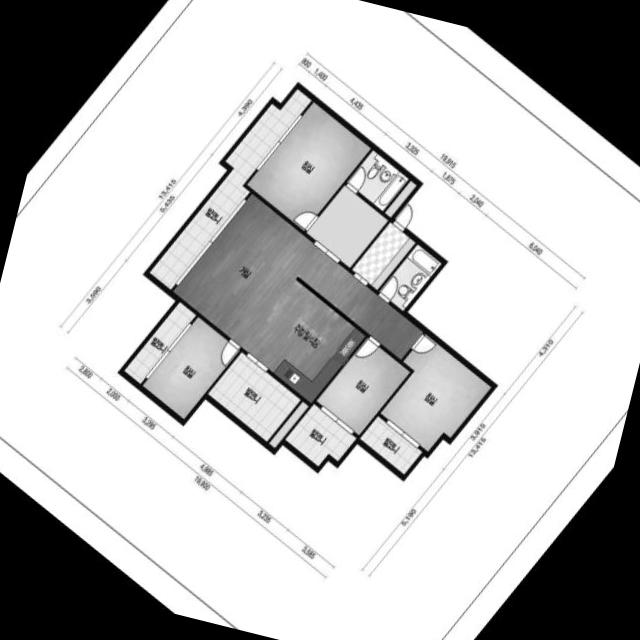background: (0, 0, 640, 640)
space_balconi: (149, 89, 311, 290), (207, 352, 300, 442), (123, 302, 195, 384), (284, 404, 356, 466), (359, 416, 422, 474)
space_bedroom: (246, 102, 370, 231), (379, 334, 491, 451), (141, 317, 239, 419), (316, 338, 409, 435)
space_dressroom: (305, 185, 387, 268)
space_front: (351, 222, 415, 290)
space_kitchen: (240, 279, 365, 403)
space_living_room: (172, 193, 423, 360)
space_toilet: (378, 244, 441, 311), (346, 150, 408, 211)
